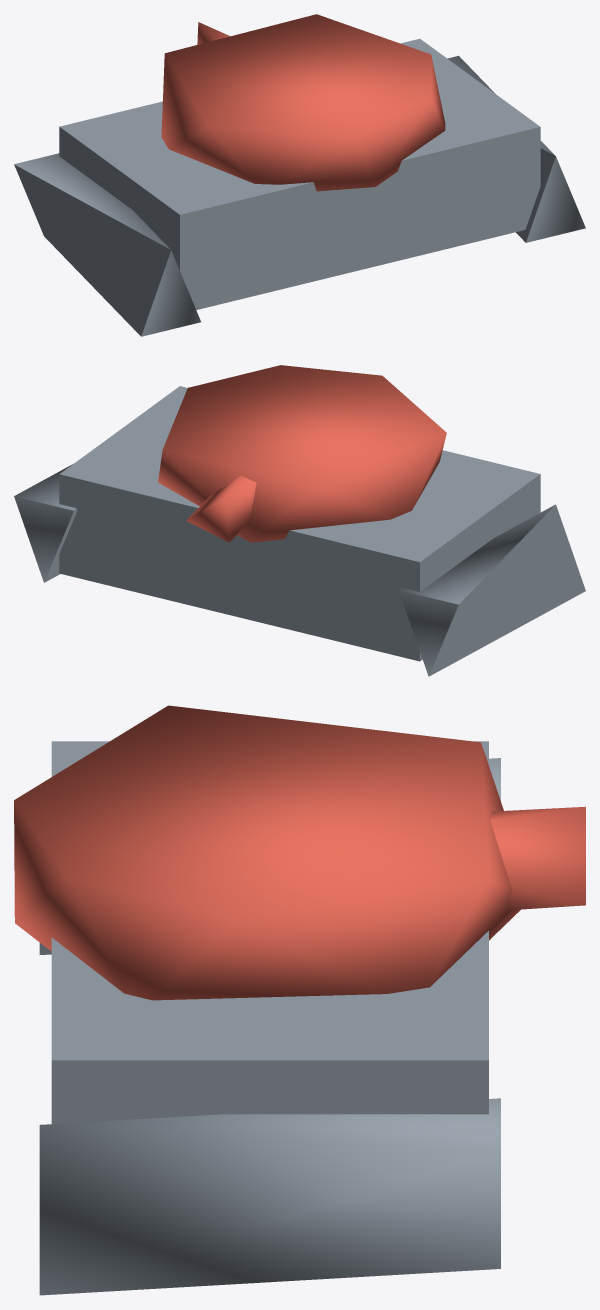
File: SU_RysScout_LOD2.glb
3 views of the same model, one above another, from view 1: azimuth 30°, elevation 25°; view 2: azimuth 150°, elevation 25°; view 3: azimuth 270°, elevation 25° (orthographic). The views are drawn at different scales.
Visible parts, largest first — view 1: Chassis; view 2: Chassis; view 3: Chassis.
Part boxes in pixels (x1,y1,x2,y2): Chassis: (14, 14, 585, 336); Chassis: (14, 365, 585, 676); Chassis: (14, 705, 585, 1295).
Bounding box in the file's own units: 422 × 144 × 259.
